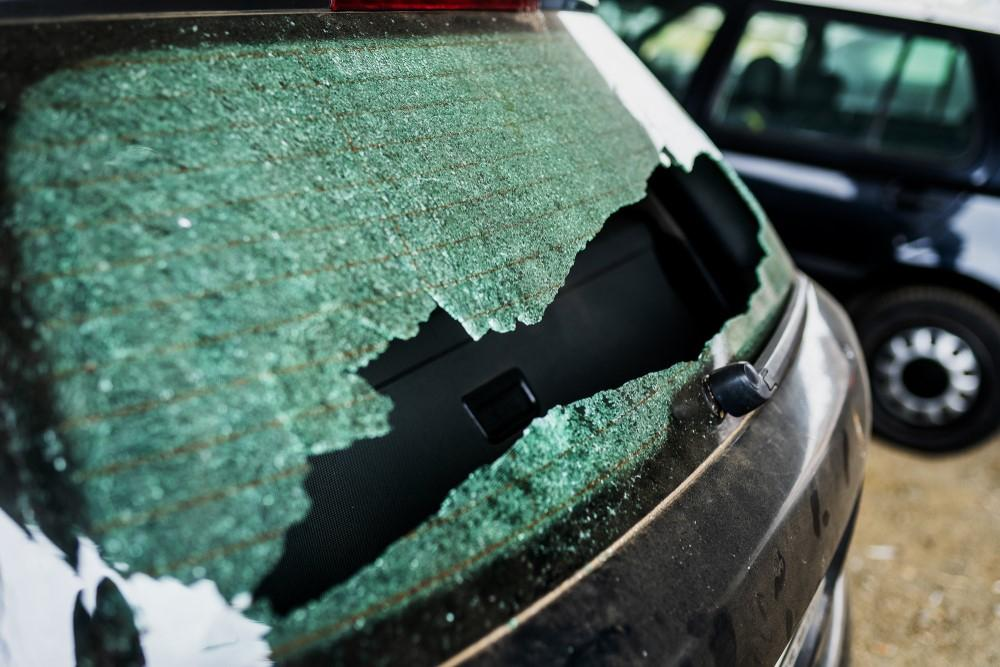glass shatter: (0, 10, 797, 667)
